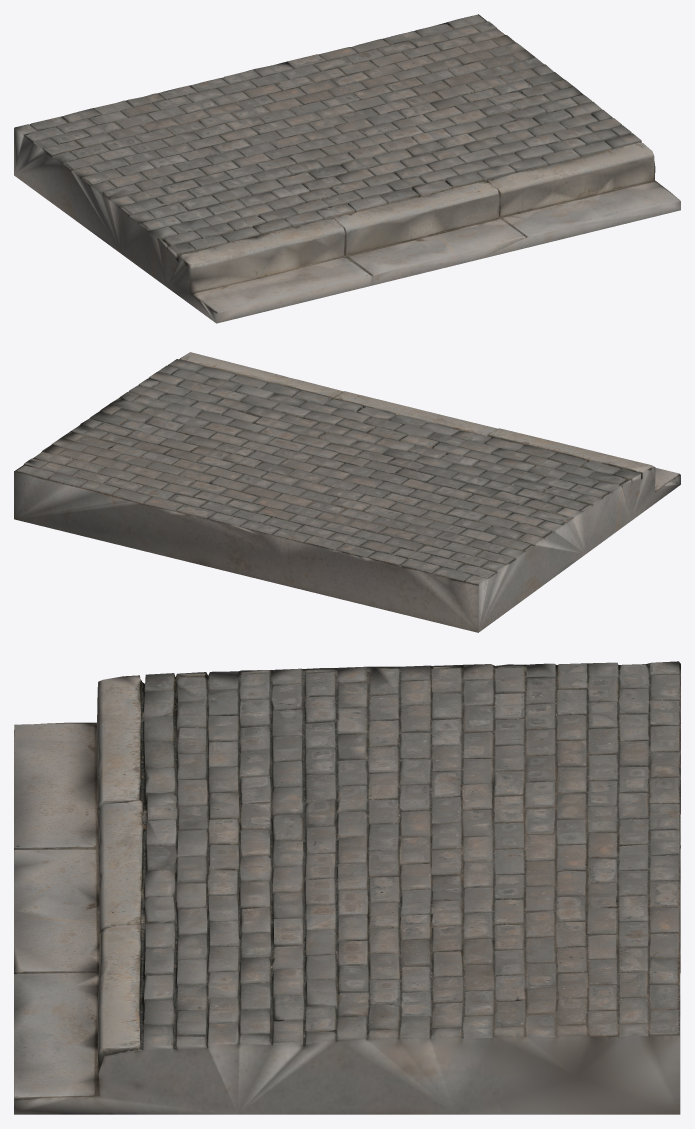
The model's file is PX_Sidewalk_05_LOD2.fbx.
3 renders of one model, top to bottom at view 1: azimuth 30°, elevation 25°; view 2: azimuth 150°, elevation 25°; view 3: azimuth 270°, elevation 25°, orthographic. The views are drawn at different scales.
Parts seen in each view (by area): view 1: PX_Sidewalk_05_LOD2; view 2: PX_Sidewalk_05_LOD2; view 3: PX_Sidewalk_05_LOD2.
Part boxes in pixels (box(x1,y1,x2,y2)): PX_Sidewalk_05_LOD2: box(14, 14, 680, 323); PX_Sidewalk_05_LOD2: box(14, 352, 680, 632); PX_Sidewalk_05_LOD2: box(14, 661, 680, 1114).
Bounding box in the file's own units: 308 × 30.91 × 232.
